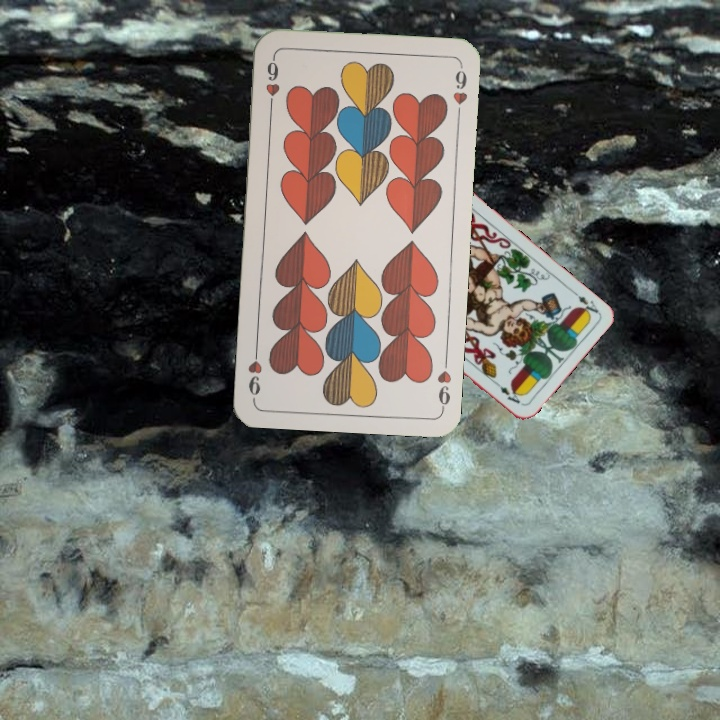EA: (567, 285, 601, 319)
H9: (261, 52, 283, 112), (433, 353, 454, 412)
